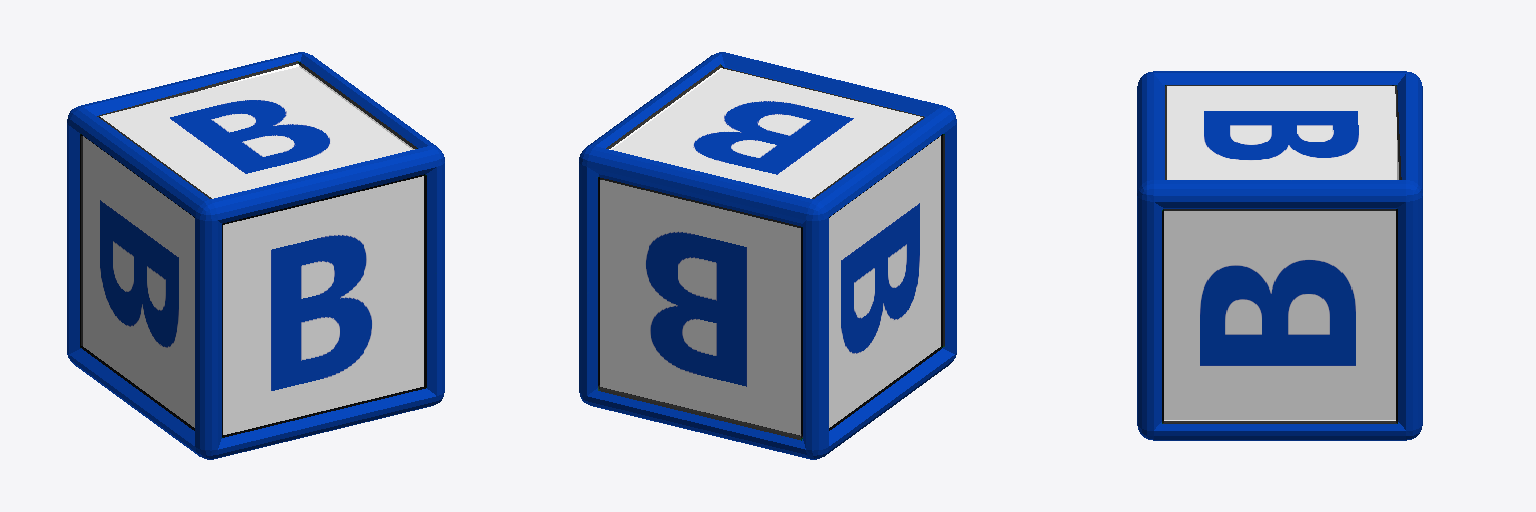
3 renders of one model, left to right at view 1: azimuth 30°, elevation 25°; view 2: azimuth 150°, elevation 25°; view 3: azimuth 270°, elevation 25°, orthographic.
Visible parts, largest first — view 1: Cube.001; view 2: Cube.001; view 3: Cube.001.
Boxes of the visible parts, x1,y1,x2,y2 form: Cube.001: [67, 52, 444, 459]; Cube.001: [579, 52, 956, 459]; Cube.001: [1137, 71, 1422, 440].
Size of the model in its own units: 2 by 2 by 2.
Materials: 1 (1 with a texture image).